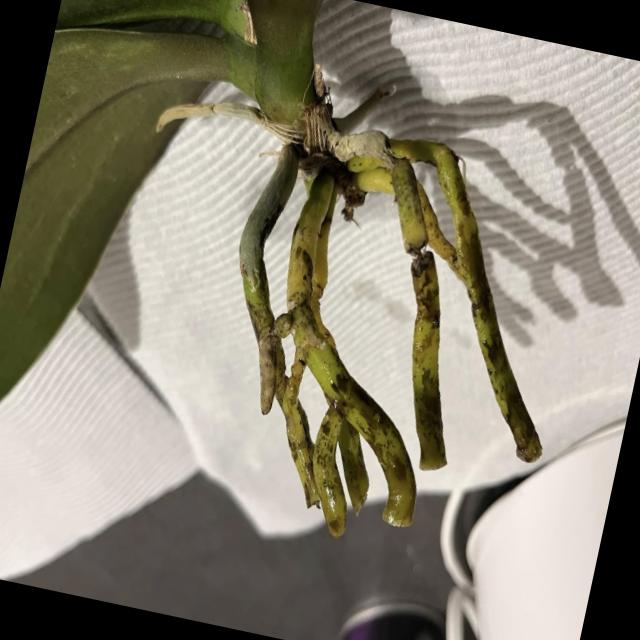leaf: (0, 90, 168, 402), (26, 27, 254, 168), (248, 0, 322, 120), (55, 0, 234, 35)
root: (239, 145, 416, 535), (352, 139, 541, 469)
